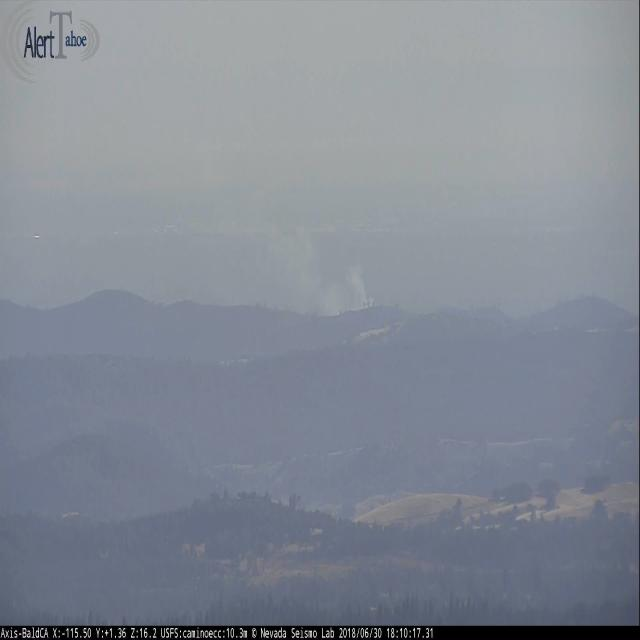smoke: (271, 219, 379, 307)
